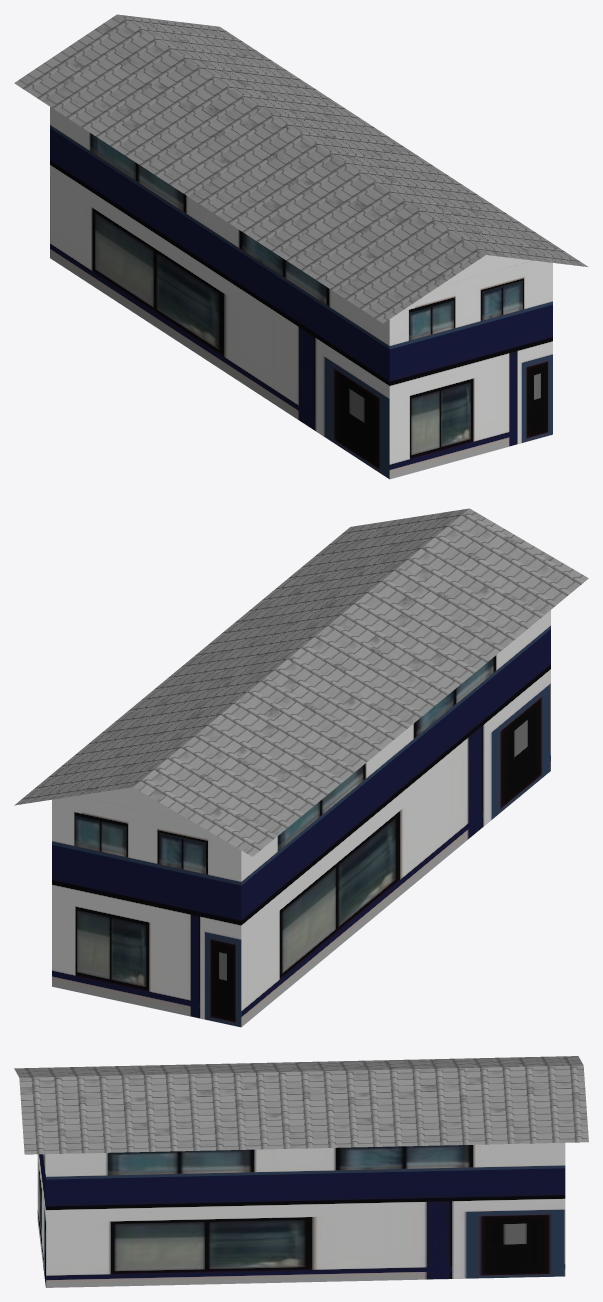
The picture shows the model from 3 angles, top to bottom: view 1: azimuth 30°, elevation 25°; view 2: azimuth 150°, elevation 25°; view 3: azimuth 270°, elevation 25°; orthographic projection. The views are drawn at different scales.
Visible parts, largest first — view 1: CityEngineMaterial_2_m, CityEngineMaterial_4_m, CityEngineMaterial_3_m; view 2: CityEngineMaterial_2_m, CityEngineMaterial_4_m, CityEngineMaterial_3_m; view 3: CityEngineMaterial_2_m, CityEngineMaterial_4_m.
Boxes of the visible parts, <box> form: CityEngineMaterial_2_m: <box>50,107,552,479</box>; CityEngineMaterial_4_m: <box>14,14,587,323</box>; CityEngineMaterial_3_m: <box>439,255,532,286</box>; CityEngineMaterial_2_m: <box>52,610,550,1027</box>; CityEngineMaterial_4_m: <box>14,508,588,856</box>; CityEngineMaterial_3_m: <box>77,787,189,820</box>; CityEngineMaterial_2_m: <box>37,1143,565,1287</box>; CityEngineMaterial_4_m: <box>14,1056,588,1154</box>.
Bounding box in the file's own units: 10.4 × 8.67 × 25.62.
